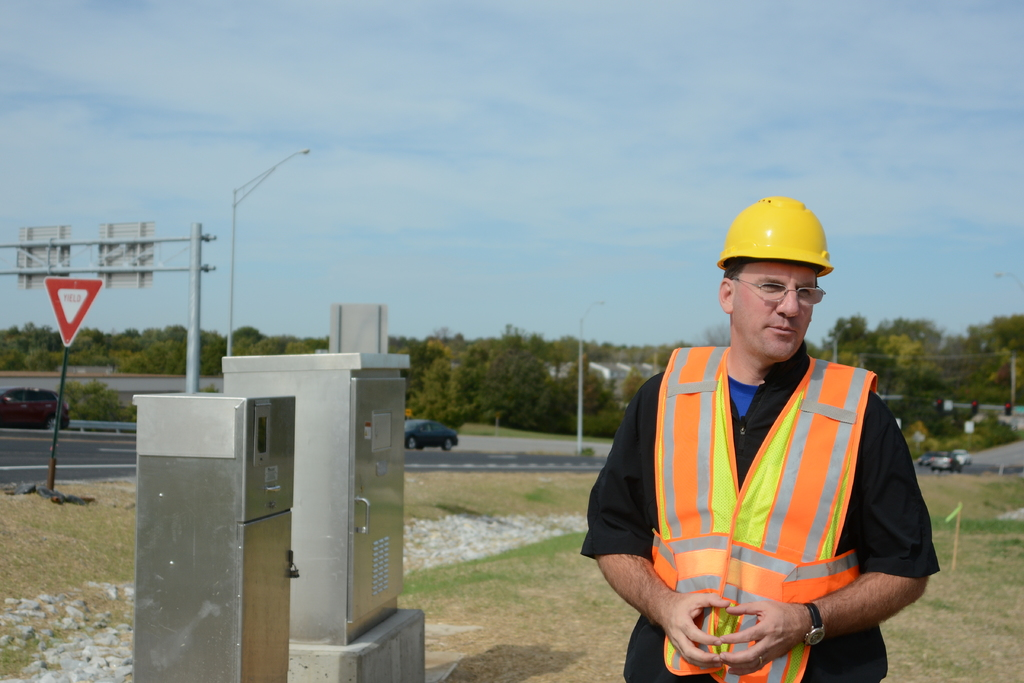Human_hand: (717, 599, 798, 679), (663, 591, 731, 667)
